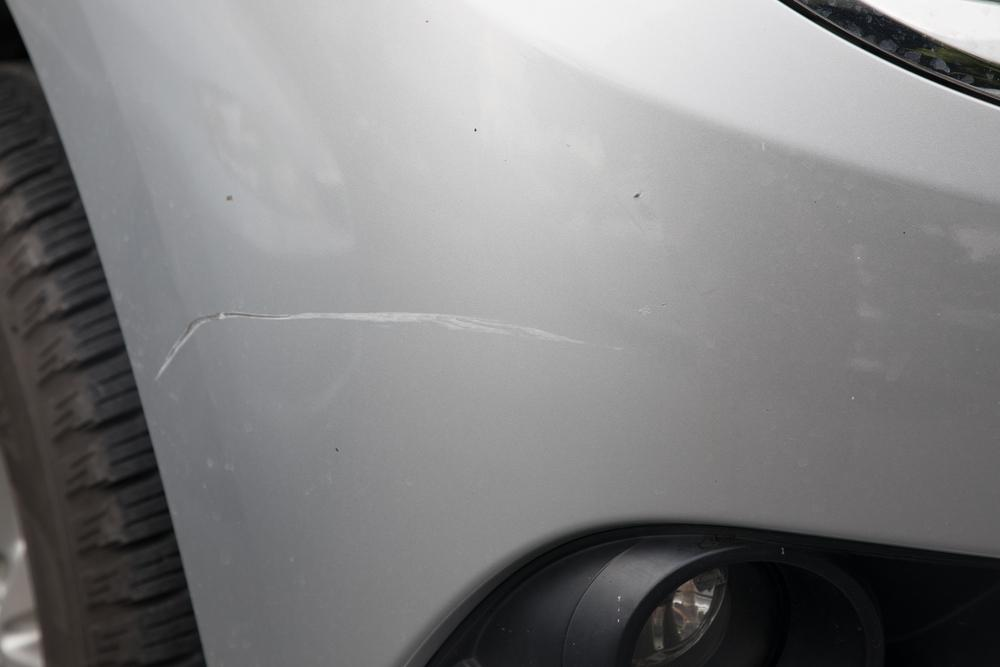scratch: (151, 308, 594, 390)
